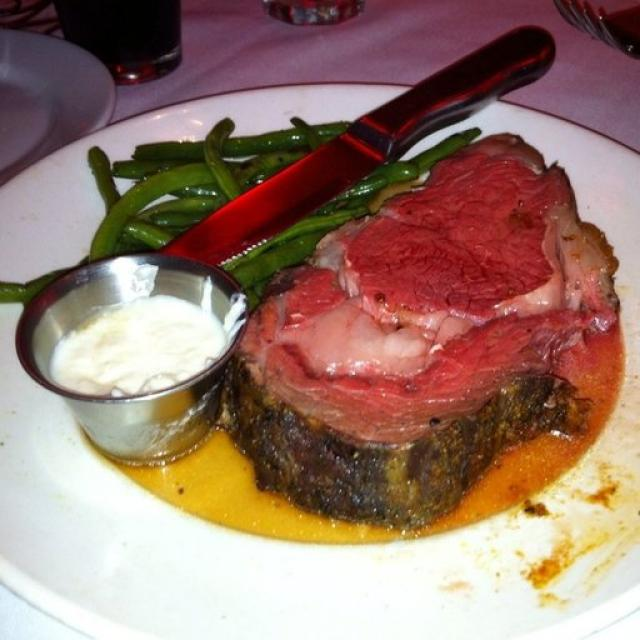Beef: (223, 144, 592, 518)
